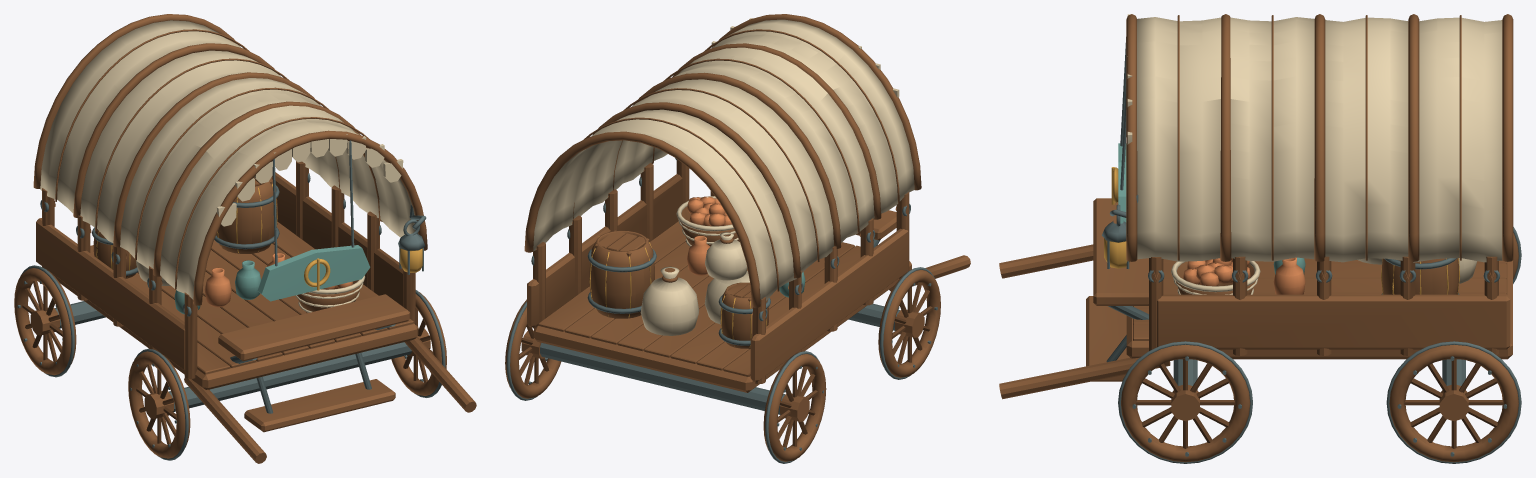
Rendered from village-wagon.glb.
The picture shows the model from 3 angles, left to right: view 1: azimuth 30°, elevation 25°; view 2: azimuth 150°, elevation 25°; view 3: azimuth 270°, elevation 25°; orthographic projection. The views are drawn at different scales.
Visible parts, largest first — view 1: HERO_wagon_batch_timber, HERO_wagon_batch_plaster, HERO_wagon_batch_iron, HERO_wagon_batch_canvas, HERO_wagon_batch_brass, HERO_wagon_batch_tileLight; view 2: HERO_wagon_batch_timber, HERO_wagon_batch_plaster, HERO_wagon_batch_iron, HERO_wagon_batch_tileLight, HERO_wagon_batch_brass; view 3: HERO_wagon_batch_plaster, HERO_wagon_batch_timber, HERO_wagon_batch_iron, HERO_wagon_batch_tileLight, HERO_wagon_batch_brass, HERO_wagon_batch_canvas.
Boxes of the visible parts, bbox=[...] form: HERO_wagon_batch_timber: bbox=[14, 14, 476, 463]; HERO_wagon_batch_plaster: bbox=[40, 20, 418, 312]; HERO_wagon_batch_iron: bbox=[17, 140, 445, 460]; HERO_wagon_batch_canvas: bbox=[174, 245, 370, 313]; HERO_wagon_batch_brass: bbox=[96, 184, 422, 290]; HERO_wagon_batch_tileLight: bbox=[204, 253, 352, 307]; HERO_wagon_batch_timber: bbox=[505, 14, 970, 461]; HERO_wagon_batch_plaster: bbox=[533, 18, 914, 335]; HERO_wagon_batch_iron: bbox=[506, 158, 937, 463]; HERO_wagon_batch_tileLight: bbox=[687, 196, 731, 275]; HERO_wagon_batch_brass: bbox=[589, 236, 766, 347]; HERO_wagon_batch_plaster: bbox=[1127, 14, 1502, 294]; HERO_wagon_batch_timber: bbox=[999, 14, 1518, 462]; HERO_wagon_batch_iron: bbox=[1101, 37, 1521, 463]; HERO_wagon_batch_tileLight: bbox=[1183, 257, 1305, 294]; HERO_wagon_batch_brass: bbox=[1104, 167, 1460, 294]; HERO_wagon_batch_canvas: bbox=[1118, 143, 1305, 274].
Size of the model in its own units: 4.44 by 4.78 by 6.22.
